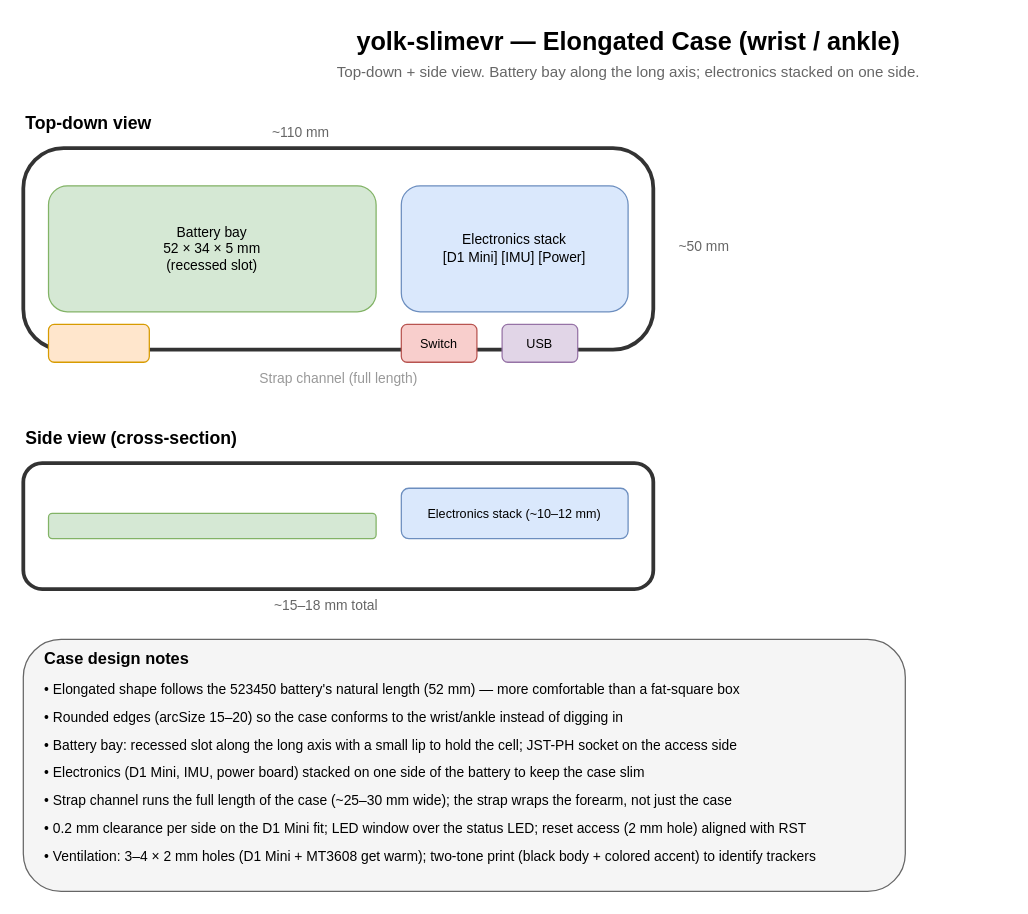
The diagram is 1028 pixels wide and 914 high, and some of its shapes have lost their labels. The box of each missing label's shape, as (x1, y1, x2, y2) in pixels:
523450 (5 mm thick): (47, 512, 376, 539)
JST-PH [socket]: (47, 323, 149, 362)
